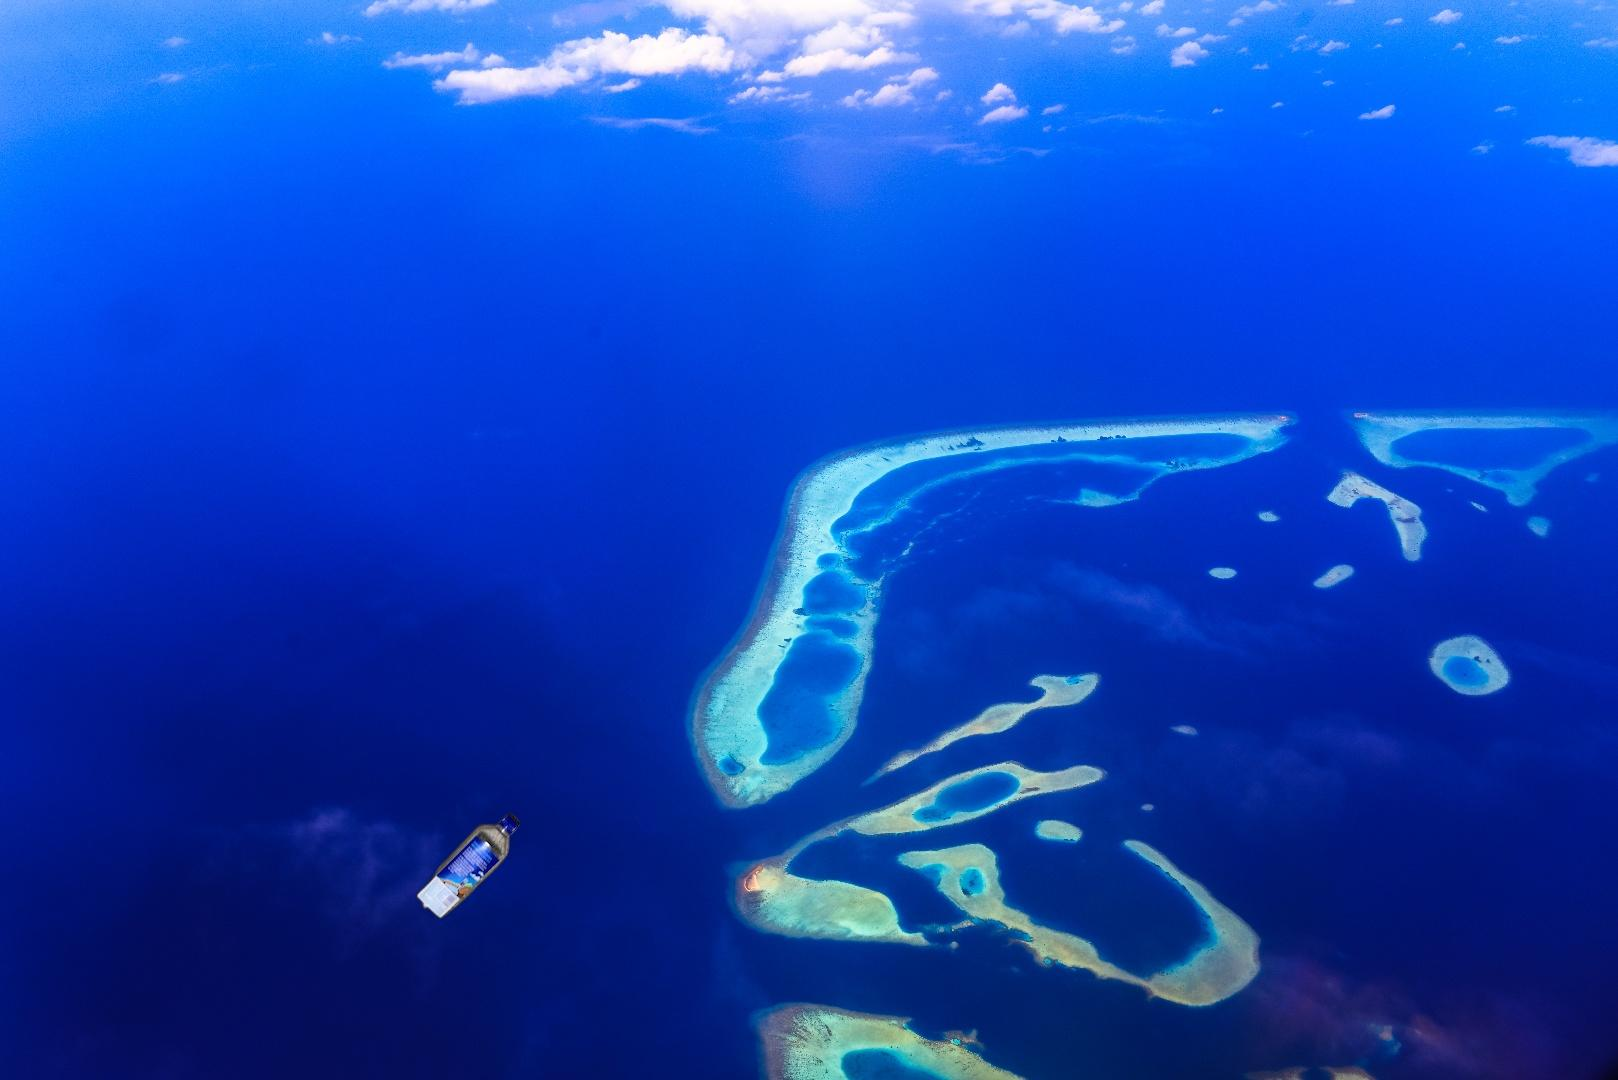plastic-bottles: (410, 807, 523, 925)
